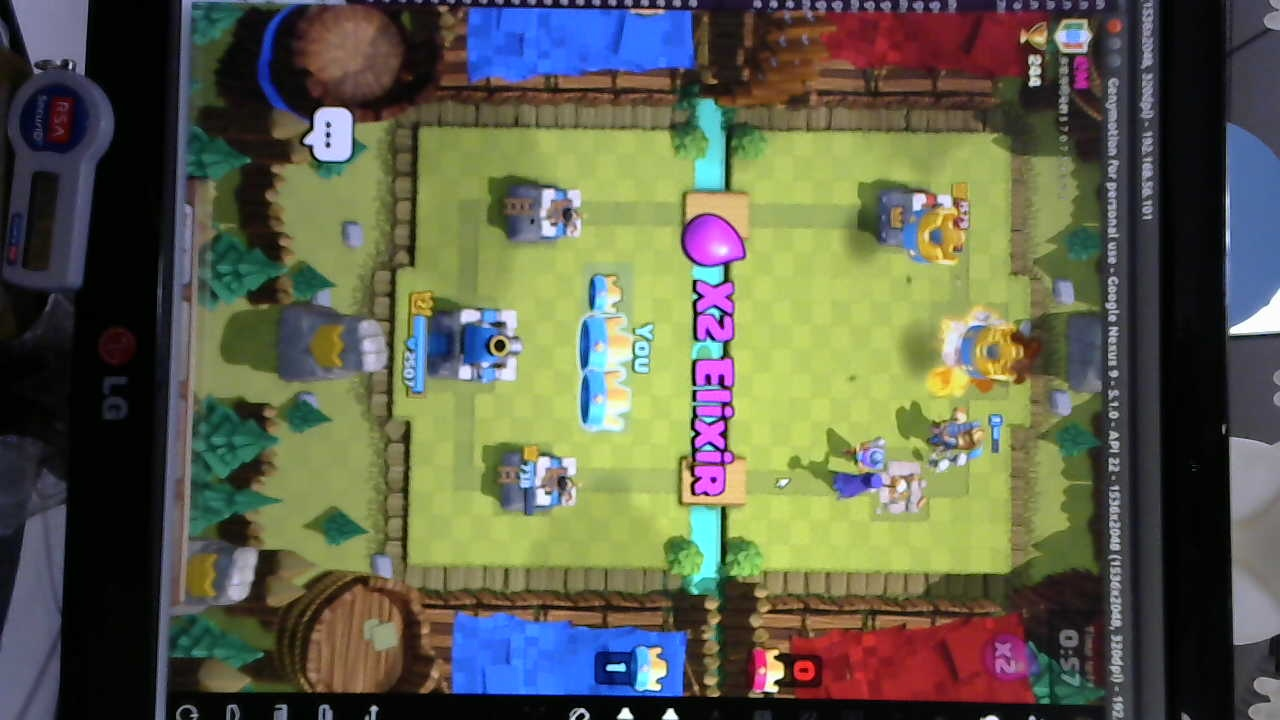arena: (499, 445, 586, 516), (501, 179, 587, 247)
darena: (871, 455, 935, 521)
king: (430, 305, 530, 384)
musketeer: (844, 437, 891, 473)
prince: (921, 406, 988, 458)
witch: (831, 469, 906, 499)
